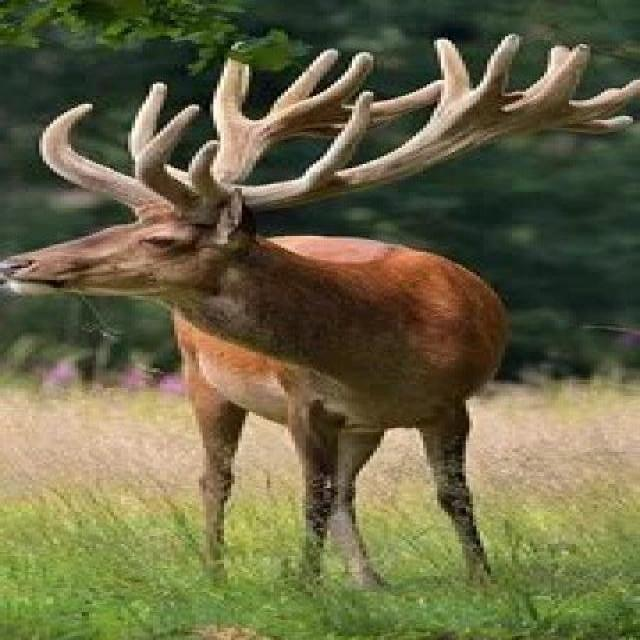deer: (29, 97, 588, 527)
